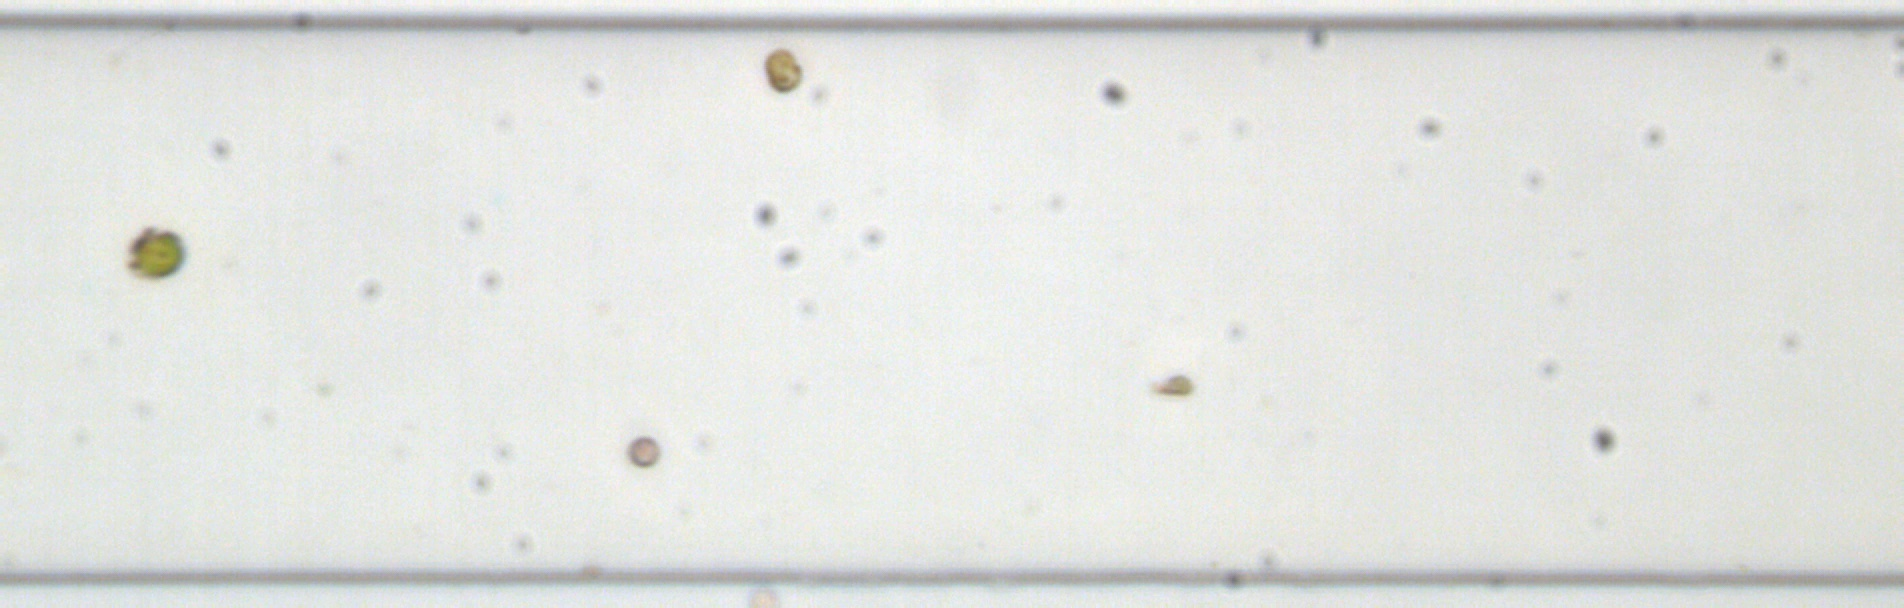Dunaliella salina: (1149, 371, 1195, 397)
Effrenium: (761, 44, 805, 95)
Haematococcus: (125, 223, 188, 282)
Porphyridium: (624, 434, 662, 468)
